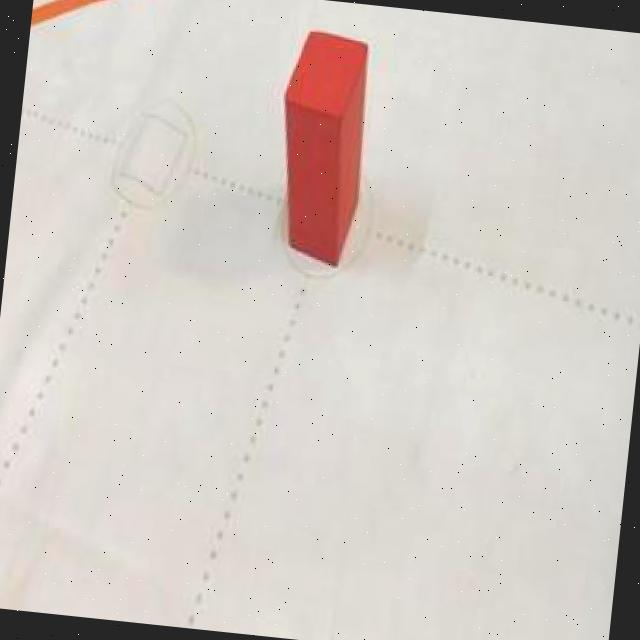redbox: (266, 25, 375, 268)
